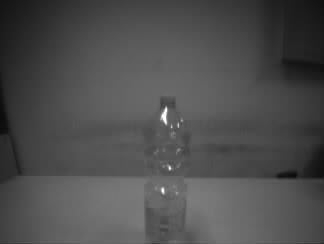Bottle: (141, 95, 191, 244)
